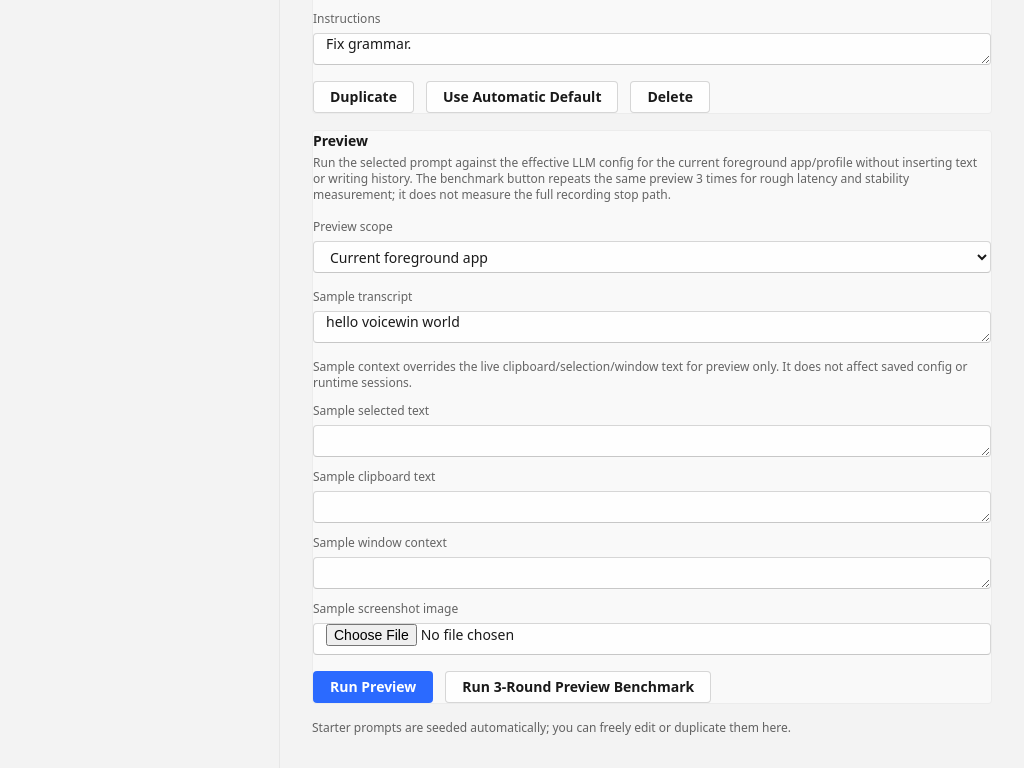
Test: PromptsPage › surfaces which round failed when the preview benchmark errors mid-run
This screenshot has width=1024, height=768.
(page scrolled)
Click the button "Run 3-Round Preview Benchmark" at [578, 687], box [445,671,711,703]
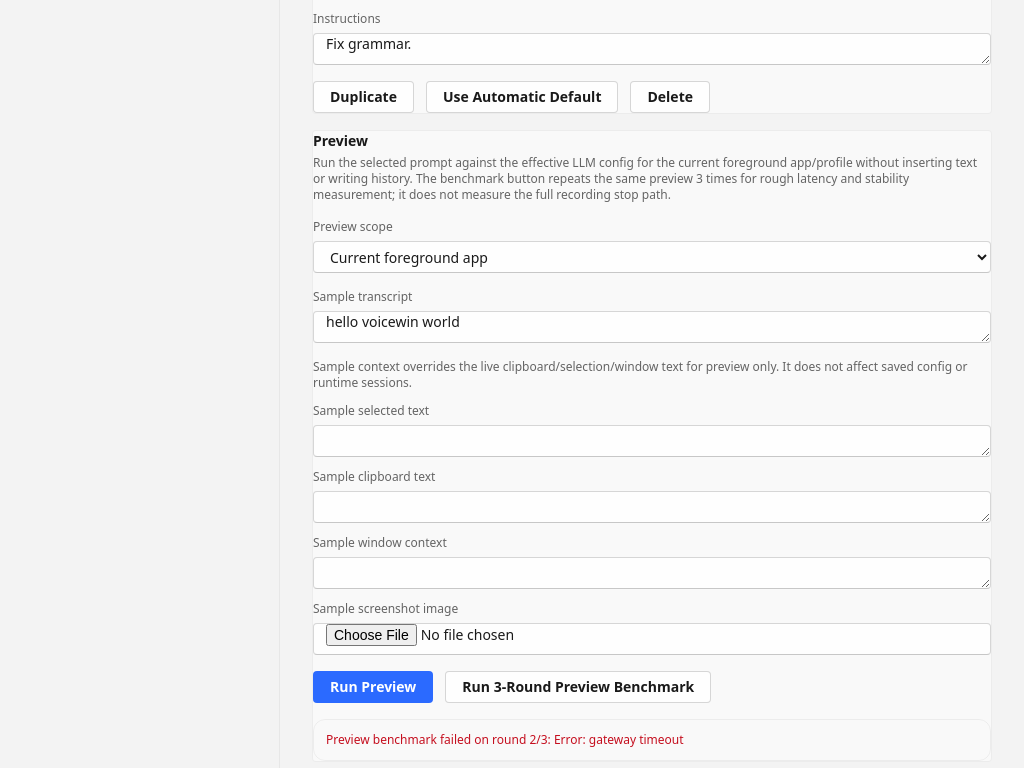
Check: the text "Preview benchmark failed on round 2/3: Error: gateway timeout" is shown, box [313,719,991,761]
